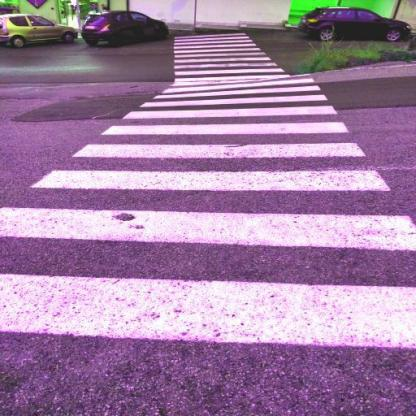crosswalk: (22, 141, 396, 199), (116, 91, 340, 122), (169, 59, 289, 78)
